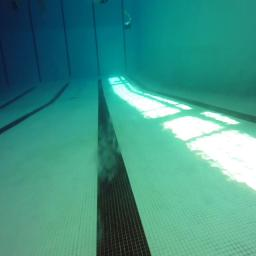Full: (124, 20, 131, 28)
